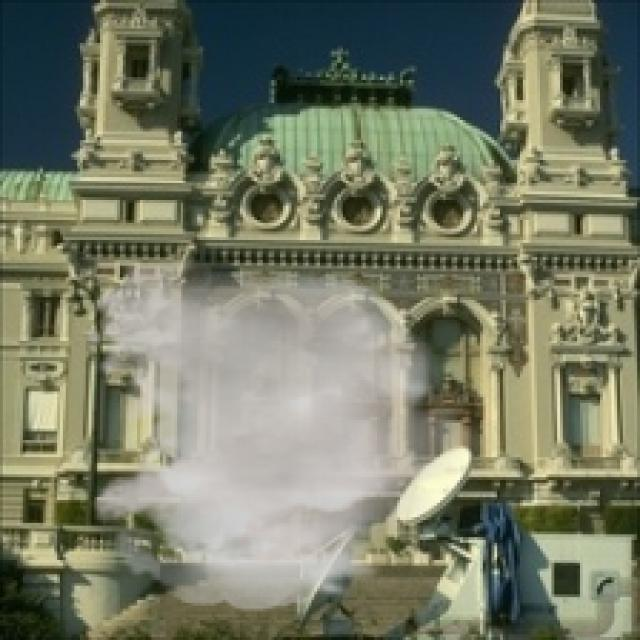Smoke: (77, 257, 492, 612)
